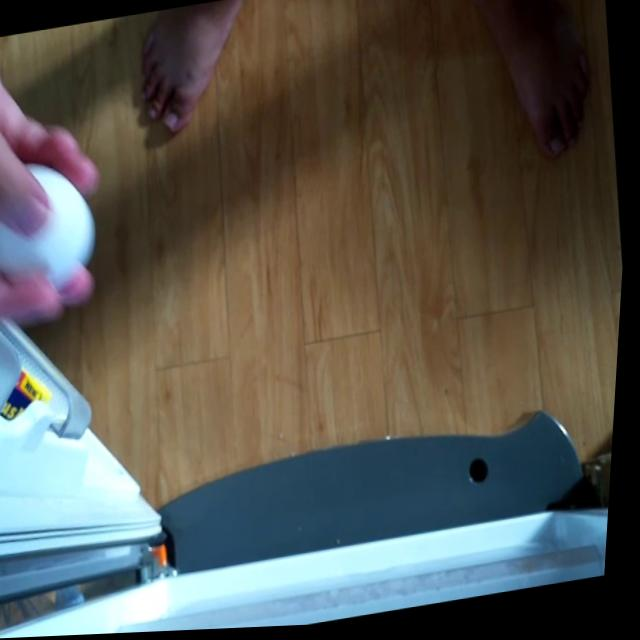egg: (0, 157, 109, 307)
